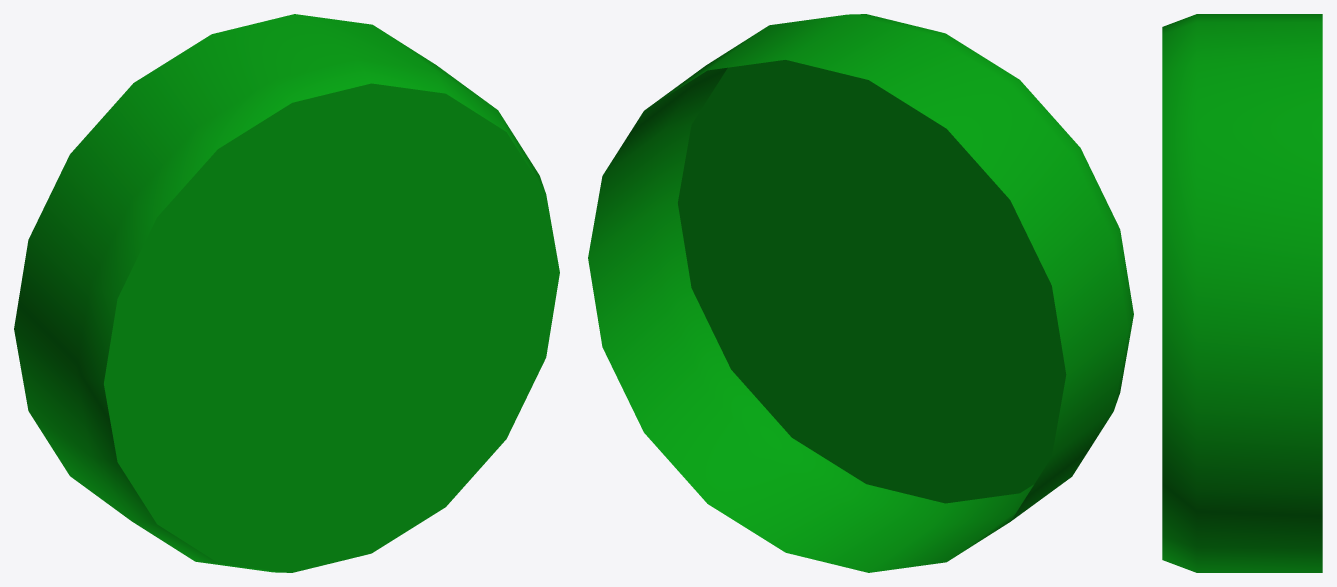
File: ANNiu2.fbx
3 renders of one model, left to right at view 1: azimuth 30°, elevation 25°; view 2: azimuth 150°, elevation 25°; view 3: azimuth 270°, elevation 25°, orthographic.
Parts seen in each view (by area): view 1: Cylinder006; view 2: Cylinder006; view 3: Cylinder006.
Part boxes in pixels (x1,y1,x2,y2): Cylinder006: [14, 14, 559, 572]; Cylinder006: [588, 14, 1133, 572]; Cylinder006: [1162, 14, 1322, 572].
Bounding box in the file's own units: 7.79 × 7.67 × 2.22.
Materials: 1 (1 with a texture image).
